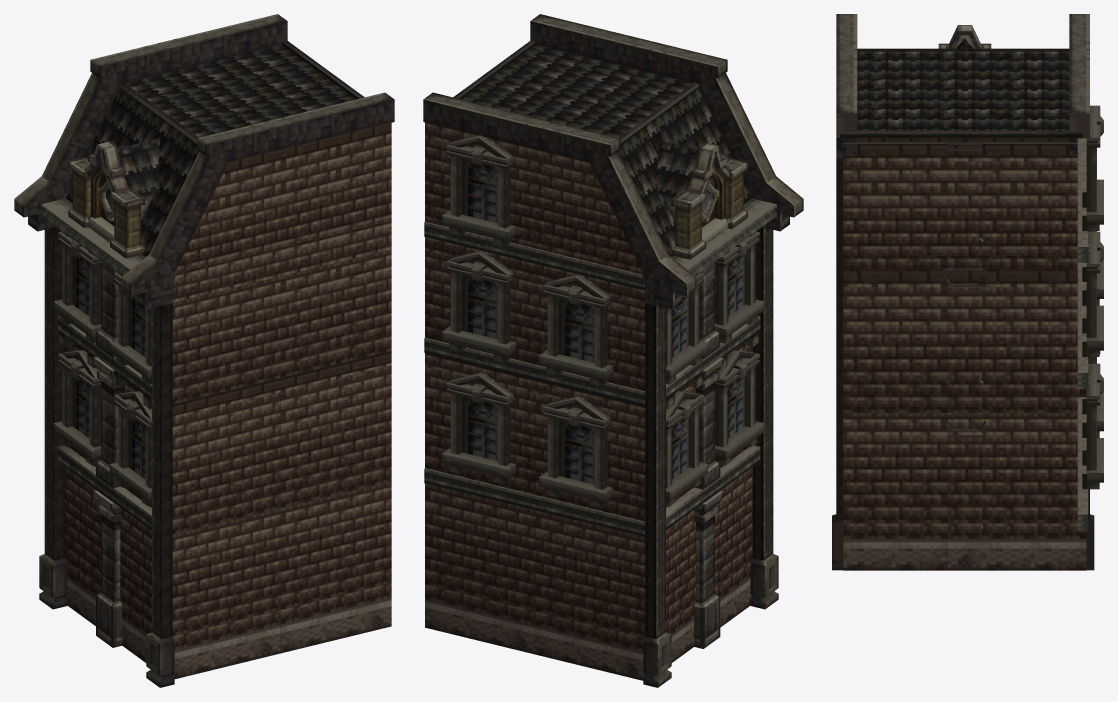
The model's file is EnvBdgMD_City_B_Outdoor_L_H_Redwall_A.FBX.
The picture shows the model from 3 angles, left to right: view 1: azimuth 30°, elevation 25°; view 2: azimuth 150°, elevation 25°; view 3: azimuth 270°, elevation 25°; orthographic projection. The views are drawn at different scales.
Visible parts, largest first — view 1: EnvBdgMD_City_B_Outdoor_L_H_Redwall_A; view 2: EnvBdgMD_City_B_Outdoor_L_H_Redwall_A; view 3: EnvBdgMD_City_B_Outdoor_L_H_Redwall_A.
Part boxes in pixels (<box>): EnvBdgMD_City_B_Outdoor_L_H_Redwall_A: <box>14,14,394,687</box>; EnvBdgMD_City_B_Outdoor_L_H_Redwall_A: <box>423,14,803,687</box>; EnvBdgMD_City_B_Outdoor_L_H_Redwall_A: <box>832,14,1103,570</box>.
Size of the model in its own units: 476 by 913 by 391.
1 material, 1 textured.
